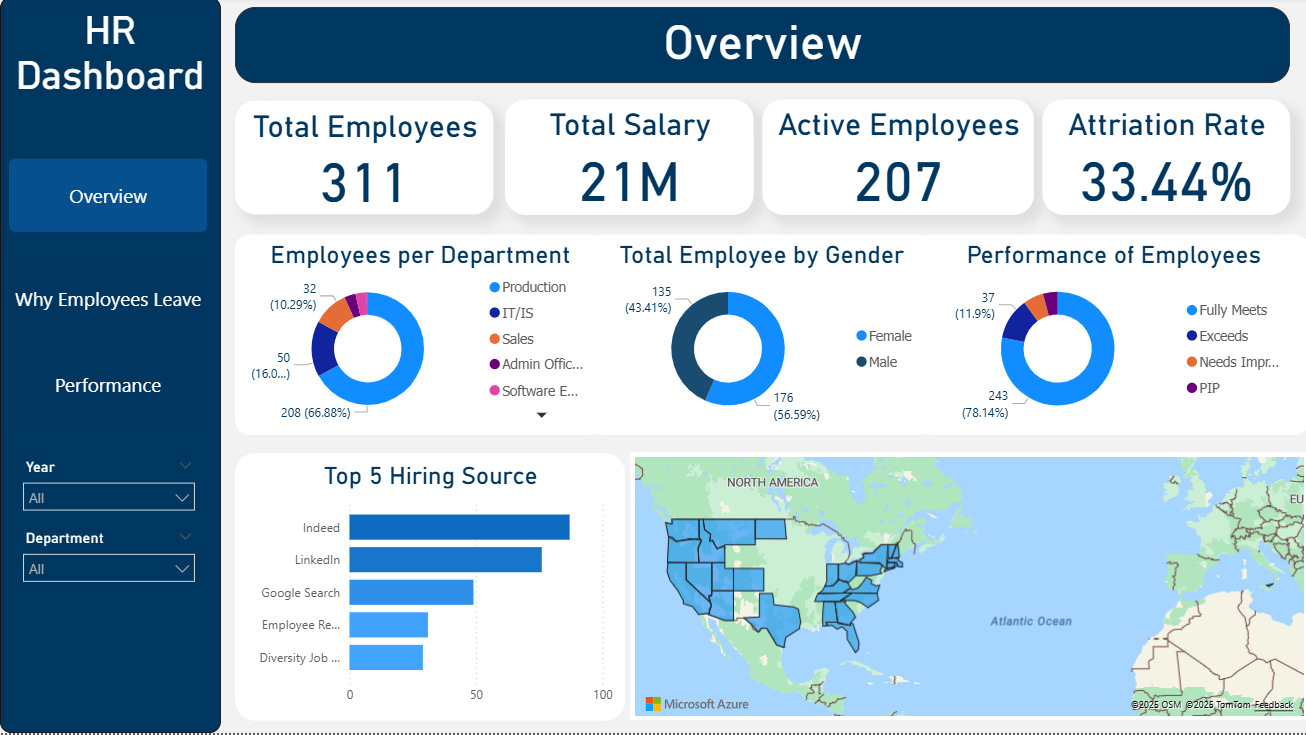

Layout of this report page (visuals, bound fields, positions):
{"tool":"powerbi","page":{"name":"Overview","canvas":[1280,720],"ordinal":0},"visuals":[{"type":"textbox","box":[0,0,216,720],"z":0},{"type":"textbox","title":"Overview","box":[229.9,9.8,1032.1,74.6],"z":1000},{"type":"card","title":"Total Employees","fields":{"Values":["All_Measures.Total Employee"]},"box":[229.9,101.5,253.1,111.3],"z":2000},{"type":"card","title":"Total Salary","fields":{"Values":["All_Measures.Total Salary"]},"box":[494,100.3,243.3,112.5],"z":3000},{"type":"card","title":"Active Employees","fields":{"Values":["All_Measures.Active Employees"]},"box":[745.9,100.3,265.4,112.5],"z":4000},{"type":"card","title":"Attriation Rate","fields":{"Values":["All_Measures.Attrition Rate (%)"]},"box":[1019.8,100.3,242.1,112.5],"z":5000},{"type":"donutChart","title":"Total Employee by Gender","fields":{"Y":["All_Measures.Total Employee"],"Category":["EmployeeDetails.Sex"]},"box":[575.7,232.9,337.1,195.7],"z":6000},{"type":"donutChart","title":"Performance of Employees","fields":{"Category":["EmployeeFacts.PerformanceScore"],"Y":["Count(EmployeeFacts.Employee_Id)"]},"box":[897.1,232.9,382.9,195.7],"z":7000},{"type":"donutChart","title":"Employees per Department","fields":{"Category":["Department.Department"],"Y":["CountNonNull(EmployeeFacts.Employee_Id)"]},"box":[230,232.9,361.4,195.7],"z":8000},{"type":"barChart","title":"Top 5 Hiring Source","fields":{"Category":["EmployeeDetails.RecruitmentSource"],"Y":["CountNonNull(EmployeeDetails.Employee_Id)"]},"box":[229.9,446.3,381.5,261.7],"z":9000},{"type":"slicer","fields":{"Values":["Department.Department"]},"box":[12.2,516,188.3,61.1],"z":10000},{"type":"actionButton","box":[8.6,157.7,194.4,72.1],"z":11000},{"type":"actionButton","box":[8.6,258,194.4,72.1],"z":12000},{"type":"actionButton","box":[8.6,342.4,194.4,72.1],"z":13000},{"type":"slicer","fields":{"Values":["EmployeeFacts.DateofHire.Variation.Date Hierarchy.Year"]},"box":[12.2,446.3,188.3,61.1],"z":14000},{"type":"filledMap","fields":{"Category":["HRDataset_v14.State"]},"box":[616.2,445,663.8,262.5],"z":15000}]}

Visuals, with their boxes in screenshot pixels (x1, y1, x2, y2), scaled from the page's 1280x720 canvas onto the 1306x735 screenshot:
textbox: (x1=0, y1=0, x2=220, y2=734)
"Overview" textbox: (x1=235, y1=10, x2=1288, y2=86)
"Total Employees" card: (x1=235, y1=104, x2=493, y2=217)
"Total Salary" card: (x1=504, y1=102, x2=752, y2=217)
"Active Employees" card: (x1=761, y1=102, x2=1032, y2=217)
"Attriation Rate" card: (x1=1041, y1=102, x2=1288, y2=217)
"Total Employee by Gender" donutChart: (x1=587, y1=238, x2=931, y2=438)
"Performance of Employees" donutChart: (x1=915, y1=238, x2=1305, y2=438)
"Employees per Department" donutChart: (x1=235, y1=238, x2=603, y2=438)
"Top 5 Hiring Source" barChart: (x1=235, y1=456, x2=624, y2=723)
slicer - Department.Department: (x1=12, y1=527, x2=205, y2=589)
actionButton: (x1=9, y1=161, x2=207, y2=235)
actionButton: (x1=9, y1=263, x2=207, y2=337)
actionButton: (x1=9, y1=350, x2=207, y2=423)
slicer - EmployeeFacts.DateofHire.Variation.Date Hierarchy.Year: (x1=12, y1=456, x2=205, y2=518)
filledMap - HRDataset_v14.State: (x1=629, y1=454, x2=1305, y2=722)
